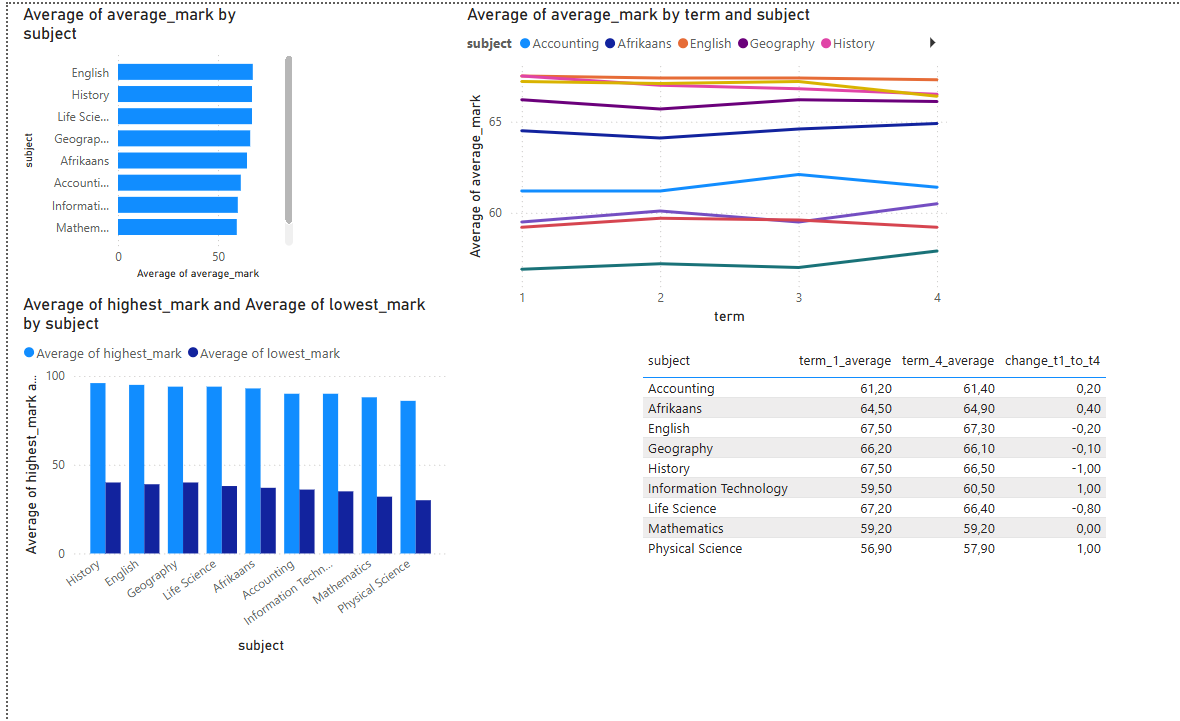

Layout of this report page (visuals, bound fields, positions):
{"tool":"powerbi","page":{"name":"Subject Performance","canvas":[1280,720],"ordinal":1},"visuals":[{"type":"clusteredBarChart","fields":{"Category":["subject_summary.subject"],"Y":["Avg(subject_summary.average_mark)"]},"box":[10,0,280,280],"z":0},{"type":"clusteredColumnChart","fields":{"Category":["subject_summary.subject"],"Y":["Avg(subject_summary.highest_mark)","Avg(subject_summary.lowest_mark)"]},"box":[10,289.8,433.7,364.7],"z":1000},{"type":"lineChart","fields":{"Category":["subject_term_summary.term"],"Y":["Avg(subject_term_summary.average_mark)"],"Series":["subject_term_summary.subject"]},"box":[453.6,0,490.6,324.7],"z":2000},{"type":"tableEx","fields":{"Values":["subject_trend_change.subject","subject_trend_change.term_1_average","subject_trend_change.term_4_average","subject_trend_change.change_t1_to_t4"]},"box":[628.5,340.7,479.6,324.7],"z":3000}]}

Visuals, with their boxes on the page's 1280x720 design canvas (x1, y1, x2, y2). These are canvas units, not pixel positions in the 1180x721 screenshot, which may show the page scaled, cropped or inside an application window:
clusteredBarChart - subject_summary.subject x Avg(subject_summary.average_mark): x1=10, y1=0, x2=290, y2=280
clusteredColumnChart - subject_summary.subject x Avg(subject_summary.highest_mark): x1=10, y1=290, x2=444, y2=654
lineChart - subject_term_summary.term x Avg(subject_term_summary.average_mark): x1=454, y1=0, x2=944, y2=325
tableEx - subject_trend_change.subject x subject_trend_change.term_1_average: x1=628, y1=341, x2=1108, y2=665
